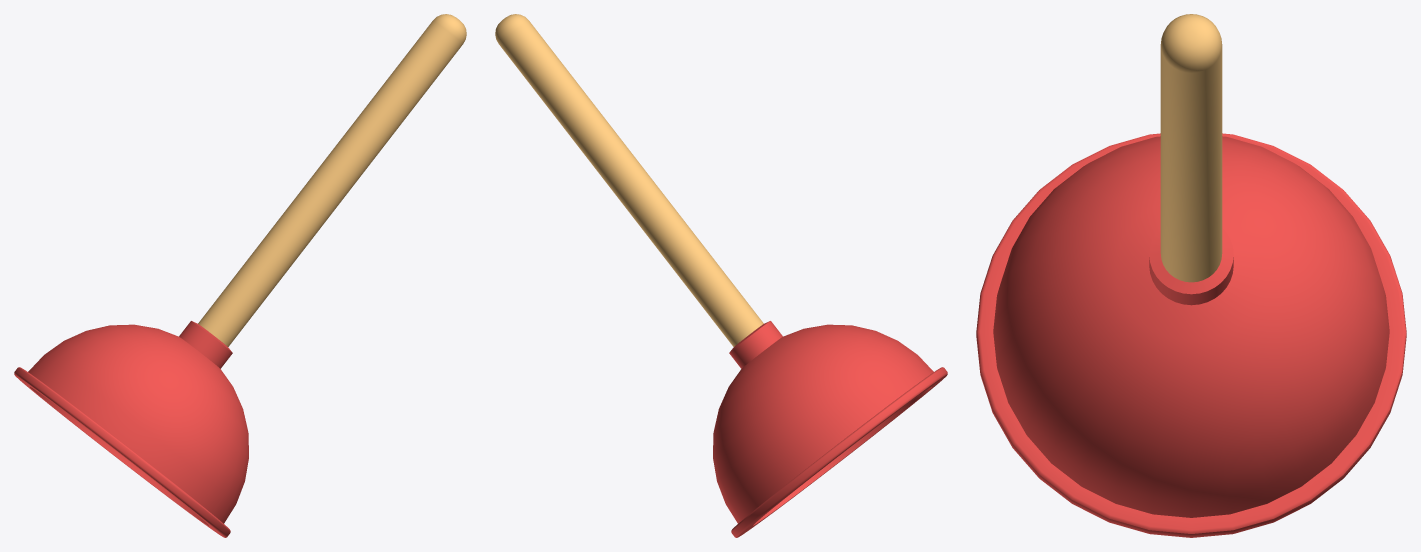
The model's file is plunger.glb.
3 views of the same model, side by side, from view 1: azimuth 30°, elevation 25°; view 2: azimuth 150°, elevation 25°; view 3: azimuth 270°, elevation 25° (orthographic). The views are drawn at different scales.
Visible parts, largest first — view 1: Sphere.532; view 2: Sphere.532; view 3: Sphere.532.
Part boxes in pixels (<box>): Sphere.532: <box>14,14,466,537</box>; Sphere.532: <box>495,14,947,537</box>; Sphere.532: <box>976,14,1406,537</box>.
Bounding box in the file's own units: 2.15 × 2.15 × 1.18.
Materials: 1 (1 with a texture image).
